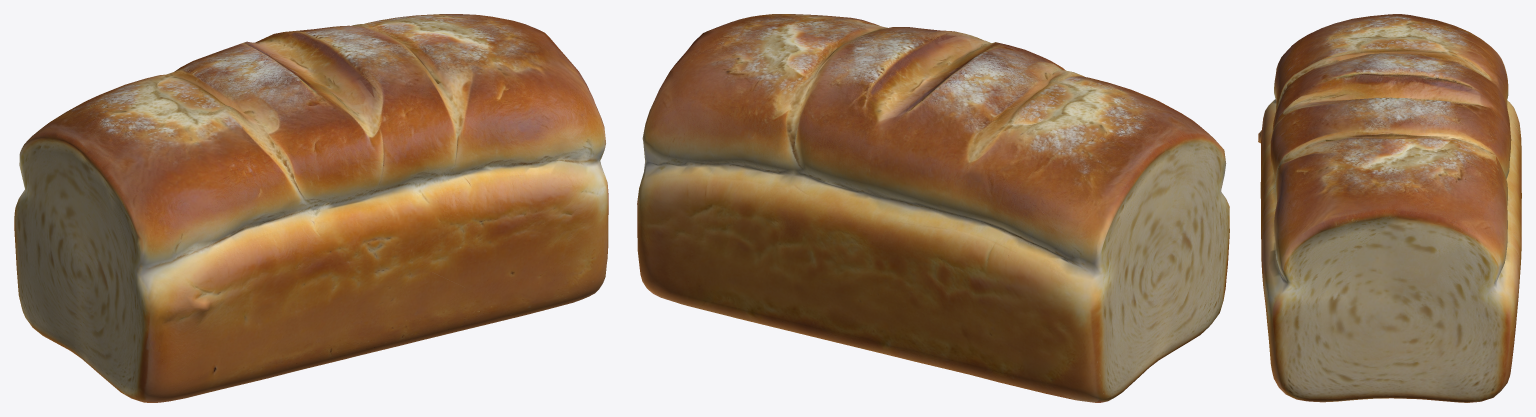
Rendered from Meshy_AI_3D_model_of_a_simple__0306033818_texture.fbx.
3 views of the same model, side by side, from view 1: azimuth 30°, elevation 25°; view 2: azimuth 150°, elevation 25°; view 3: azimuth 270°, elevation 25° (orthographic). The views are drawn at different scales.
Visible parts, largest first — view 1: Mesh_0; view 2: Mesh_0; view 3: Mesh_0.
Part boxes in pixels (x1,y1,x2,y2): Mesh_0: [14, 14, 608, 402]; Mesh_0: [637, 14, 1229, 402]; Mesh_0: [1258, 14, 1521, 402].
Size of the model in its own units: 95.05 by 50 by 53.23.
Materials: 1 (1 with a texture image).
